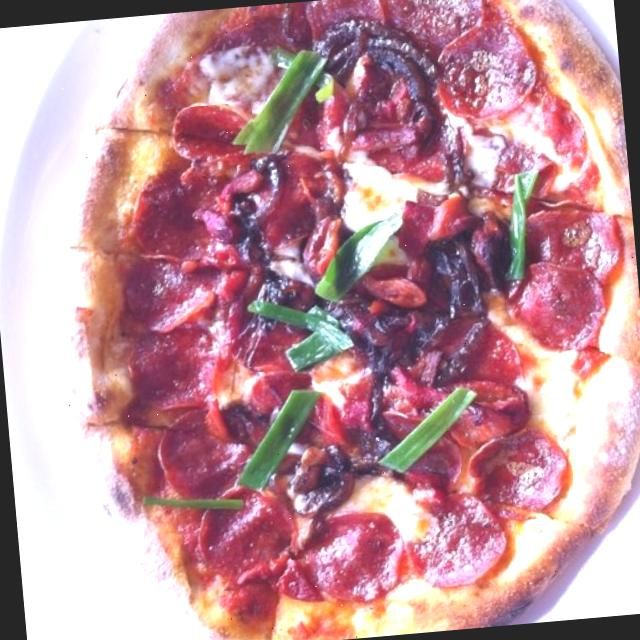pepperoni: (390, 473, 522, 598), (422, 7, 551, 132), (457, 410, 582, 531), (492, 242, 616, 362), (194, 465, 304, 595), (101, 233, 222, 351), (291, 502, 416, 613), (121, 160, 244, 266), (118, 300, 225, 412), (159, 395, 257, 502), (157, 100, 256, 174)
pizza: (57, 0, 640, 640)
